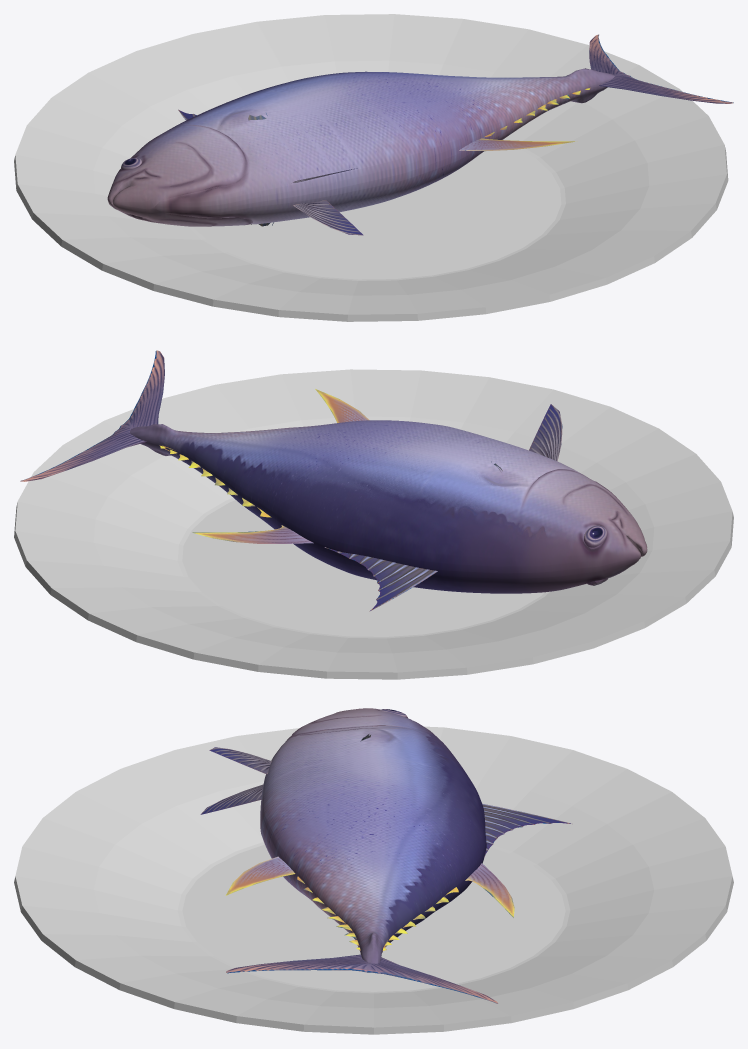
File: tuna(common).fbx
The picture shows the model from 3 angles, top to bottom: view 1: azimuth 30°, elevation 25°; view 2: azimuth 150°, elevation 25°; view 3: azimuth 270°, elevation 25°; orthographic projection.
Parts seen in each view (by area): view 1: 원형.035, tuna; view 2: 원형.035, tuna; view 3: 원형.035, tuna.
Part boxes in pixels (x1,y1,x2,y2): 원형.035: [14, 14, 728, 321]; tuna: [107, 34, 733, 235]; 원형.035: [14, 369, 733, 679]; tuna: [20, 350, 647, 611]; 원형.035: [14, 726, 733, 1034]; tuna: [200, 708, 570, 1003].
Bounding box in the file's own units: 293 × 61.8 × 293.
